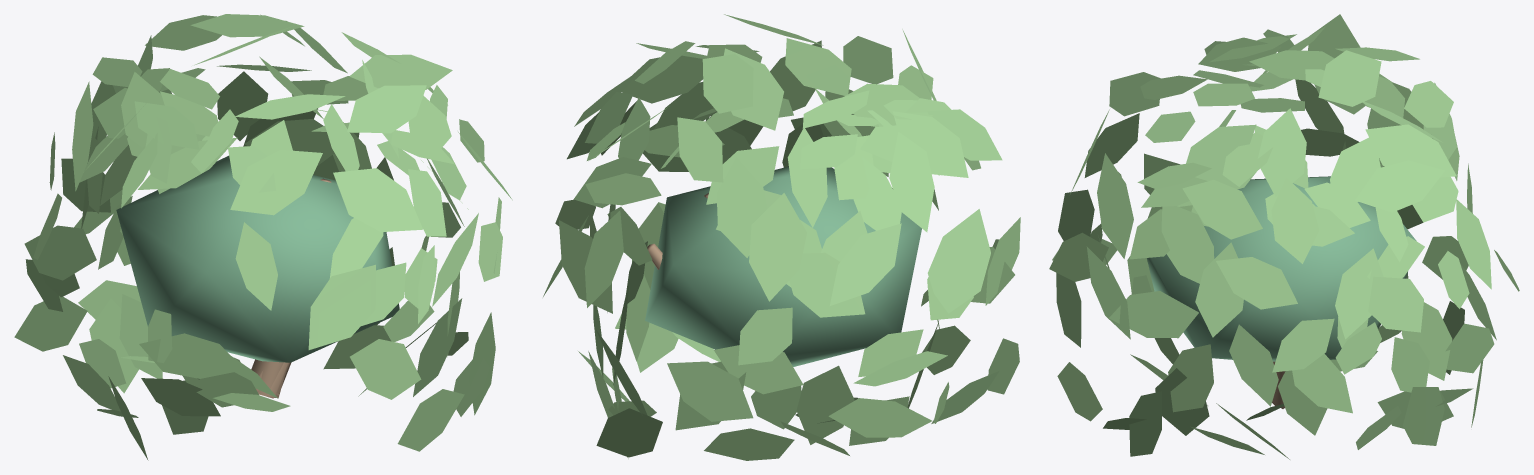
The model's file is bush_A.glb.
The picture shows the model from 3 angles, left to right: view 1: azimuth 30°, elevation 25°; view 2: azimuth 150°, elevation 25°; view 3: azimuth 270°, elevation 25°; orthographic projection. The views are drawn at different scales.
Parts seen in each view (by area): view 1: bush_A; view 2: bush_A; view 3: bush_A.
Boxes of the visible parts, x1,y1,x2,y2 form: bush_A: (14, 14, 512, 460); bush_A: (543, 14, 1020, 460); bush_A: (1049, 14, 1519, 459).
Bounding box in the file's own units: 0.8014 × 0.6639 × 0.788.
